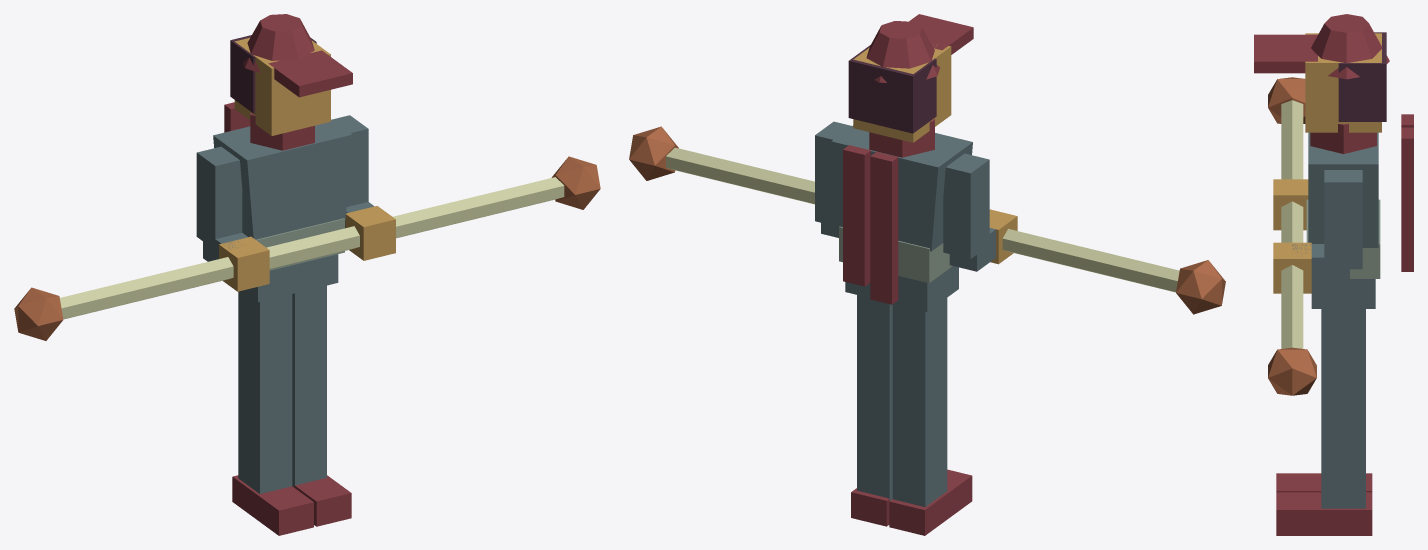
Rendered from walker.glb.
The picture shows the model from 3 angles, left to right: view 1: azimuth 30°, elevation 25°; view 2: azimuth 150°, elevation 25°; view 3: azimuth 270°, elevation 25°; orthographic projection. The views are drawn at different scales.
Visible parts, largest first — view 1: Body, Pole; view 2: Body, Pole; view 3: Body, Pole.
Part boxes in pixels (<box>): Body: <box>196,14,395,535</box>; Pole: <box>14,156,600,340</box>; Body: <box>815,14,1017,535</box>; Pole: <box>629,126,1225,314</box>; Body: <box>1254,14,1413,535</box>; Pole: <box>1268,77,1316,395</box>.
Bounding box in the file's own units: 2.15 × 1.7 × 0.5.
